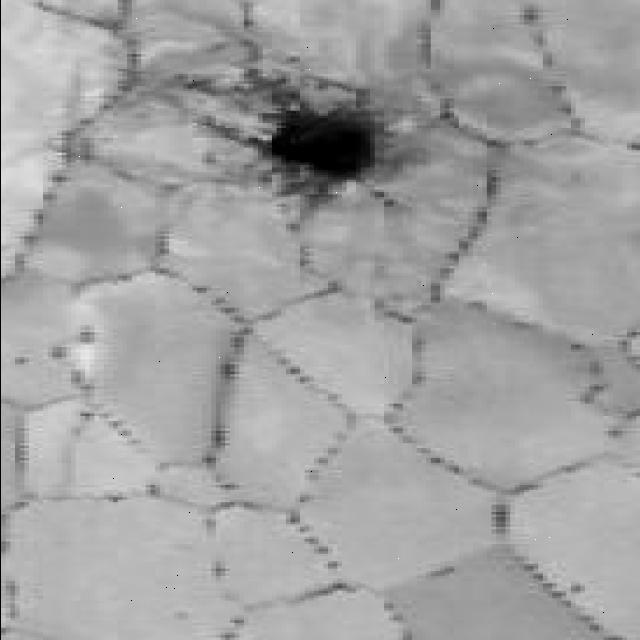good_void: (174, 52, 416, 214)
